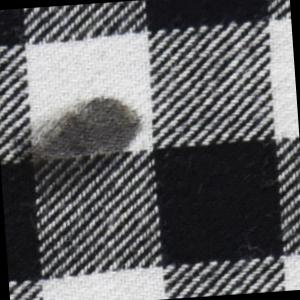Stain: (8, 91, 153, 210)
